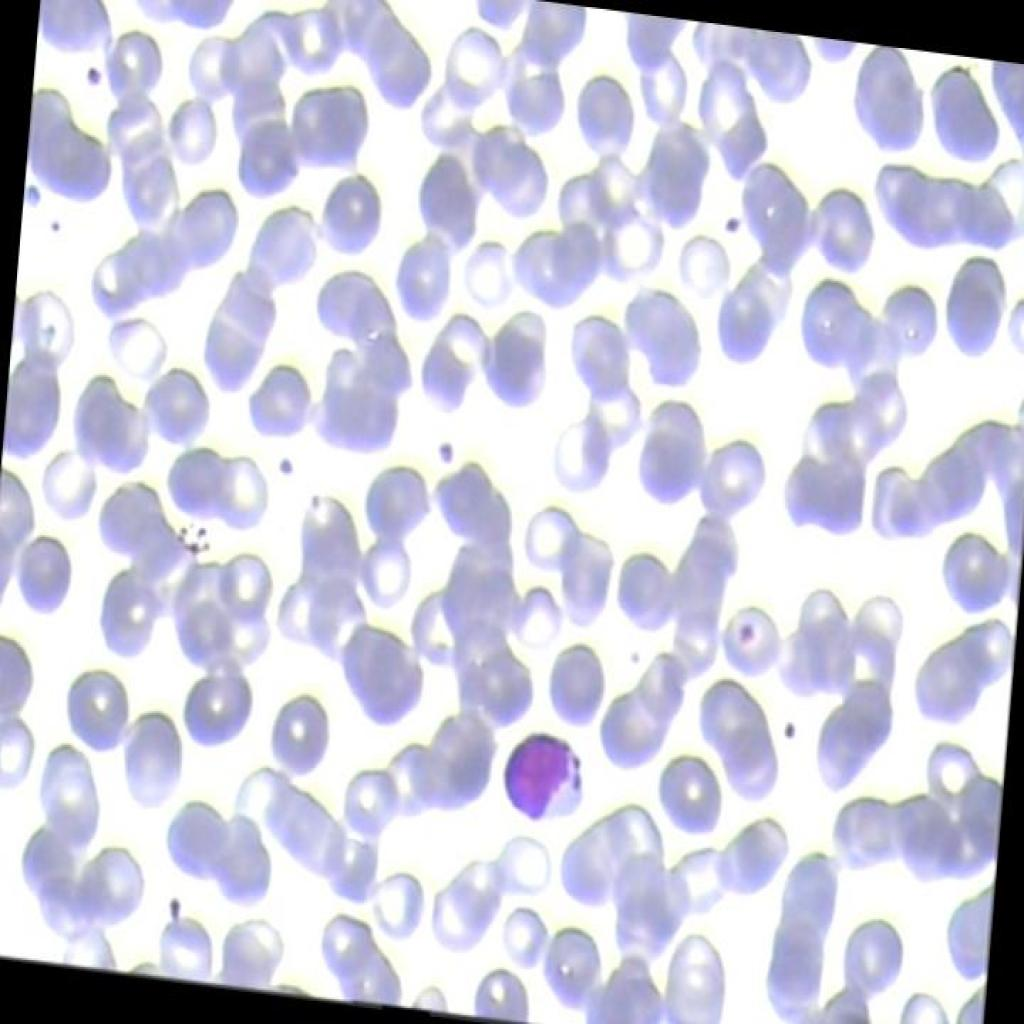Limfosit: (485, 715, 593, 839)
Platelet: (72, 53, 110, 103), (431, 423, 466, 475), (264, 437, 298, 489), (23, 163, 55, 217), (157, 882, 189, 935), (772, 711, 805, 759), (715, 196, 748, 244), (38, 211, 74, 249), (727, 614, 759, 644)
